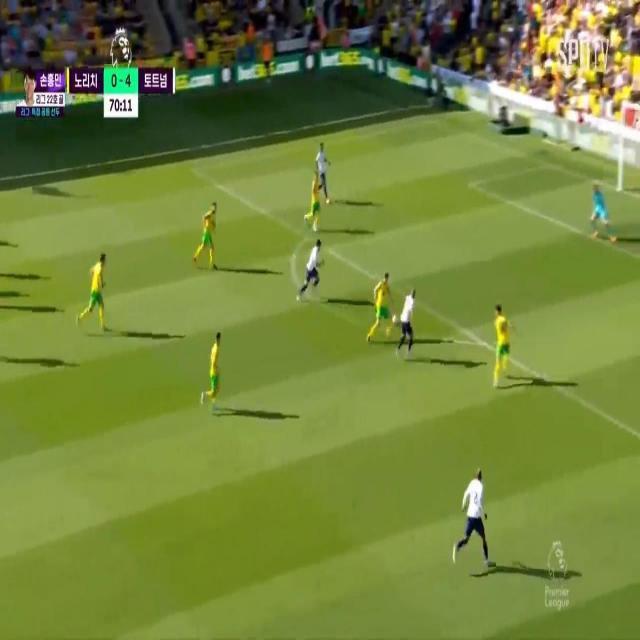ball: (391, 305, 402, 329)
goalkeeper: (584, 153, 617, 259)
player: (373, 258, 395, 347), (462, 466, 487, 543), (199, 200, 222, 274), (205, 329, 227, 406), (492, 306, 513, 379), (85, 253, 105, 328), (398, 282, 419, 350), (305, 233, 325, 296), (318, 137, 331, 203), (308, 165, 319, 234)
